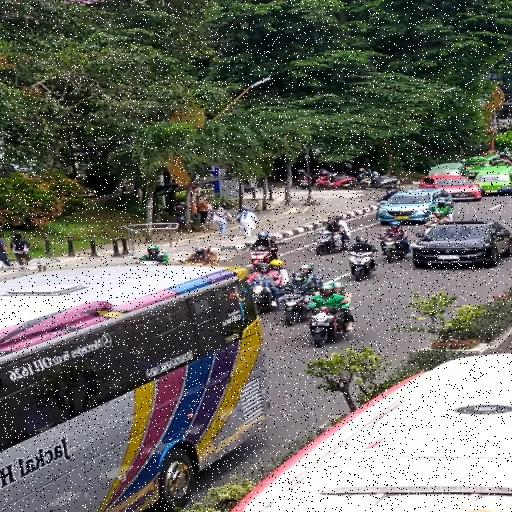Helmet: (320, 284, 334, 297), (298, 264, 314, 275), (292, 272, 306, 282), (258, 263, 270, 273), (333, 282, 345, 292), (270, 260, 283, 269), (148, 245, 159, 255), (195, 248, 206, 255), (257, 232, 268, 239), (356, 237, 367, 243), (390, 221, 401, 227), (437, 200, 446, 206), (434, 211, 443, 216), (359, 168, 366, 171)
Motor: (309, 308, 345, 347), (281, 289, 311, 326), (316, 230, 349, 255), (379, 235, 407, 263), (350, 252, 375, 281), (358, 172, 399, 189), (251, 281, 271, 314), (313, 175, 357, 190), (250, 247, 271, 269), (310, 170, 330, 184), (136, 259, 161, 265)
